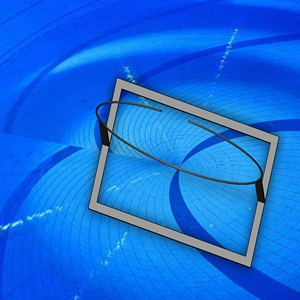circle: (88, 77, 281, 269)
